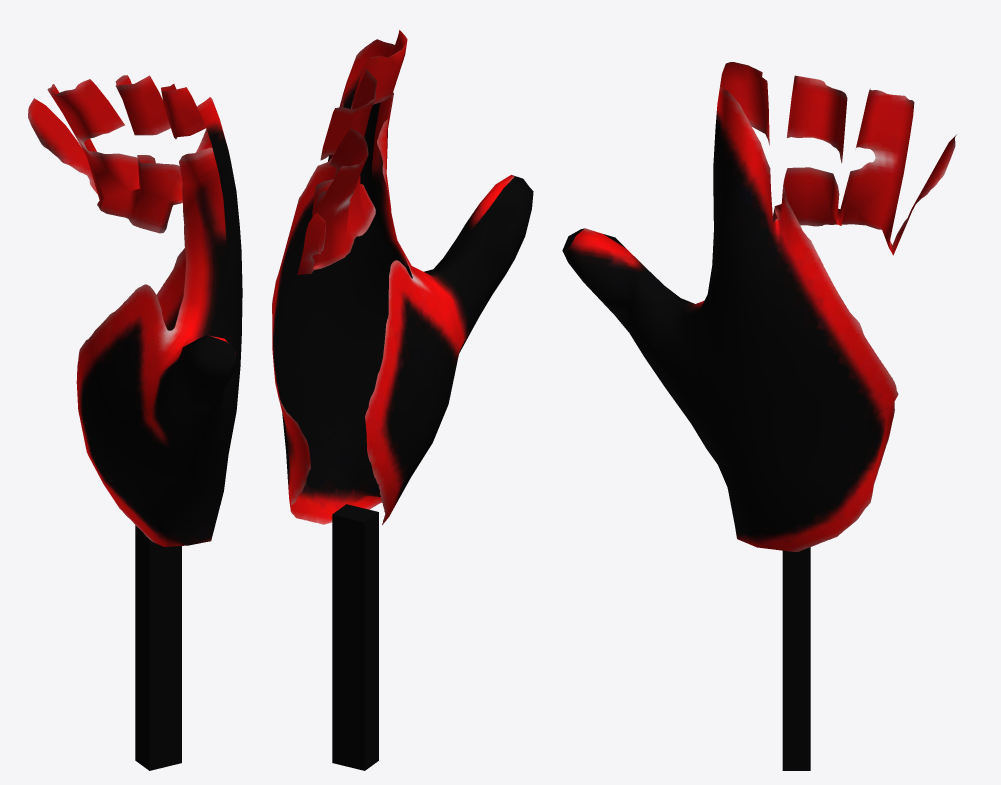
Rendered from Slap_2.fbx.
The picture shows the model from 3 angles, left to right: view 1: azimuth 30°, elevation 25°; view 2: azimuth 150°, elevation 25°; view 3: azimuth 270°, elevation 25°; orthographic projection.
Visible parts, largest first — view 1: Handle1, Stick1; view 2: Handle1, Stick1; view 3: Handle1, Stick1.
Part boxes in pixels (x1=…): Handle1: x1=28, y1=75, x2=242, y2=546; Stick1: x1=135, y1=525, x2=181, y2=770; Handle1: x1=272, y1=30, x2=533, y2=524; Stick1: x1=332, y1=504, x2=378, y2=770; Handle1: x1=562, y1=62, x2=956, y2=551; Stick1: x1=782, y1=547, x2=810, y2=770.
Size of the model in its own units: 91.5 by 470 by 246.
Materials: 2 (1 with a texture image).
